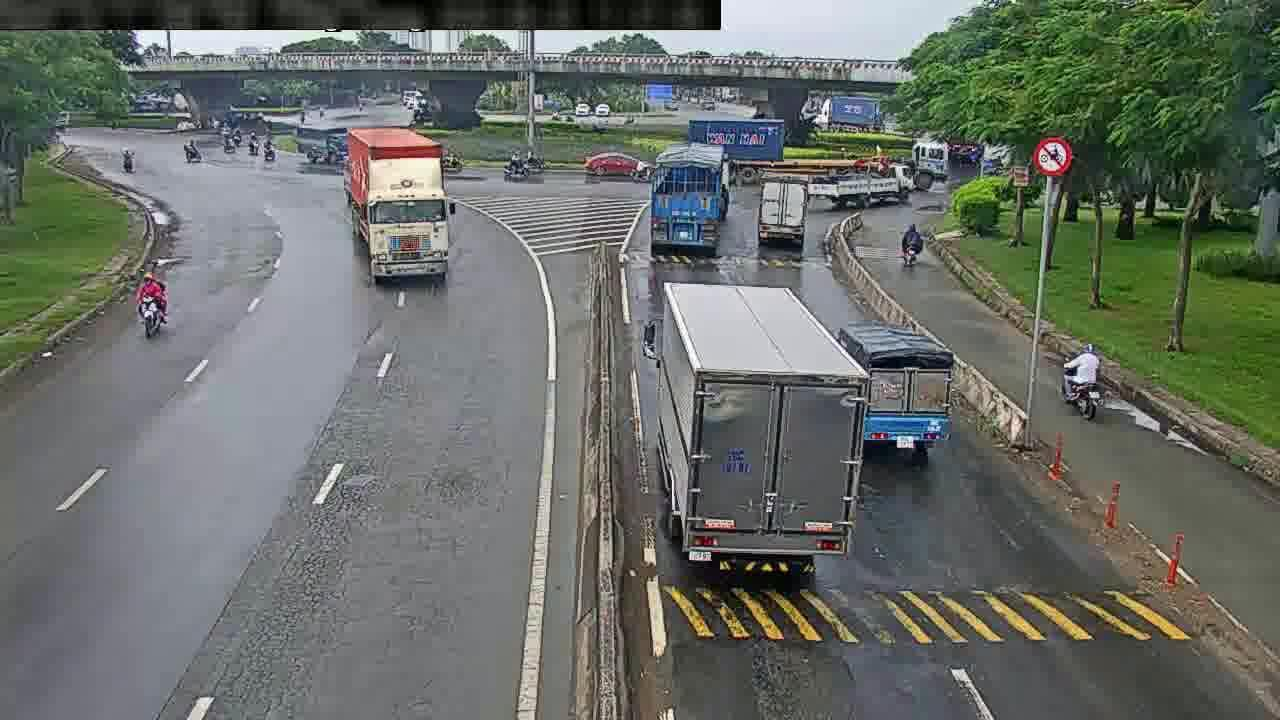car: (581, 151, 643, 178)
container: (641, 274, 875, 589), (677, 112, 951, 194), (838, 314, 962, 462), (346, 113, 450, 284), (647, 141, 728, 256), (753, 171, 821, 250)
motorbike: (1057, 343, 1106, 421), (134, 265, 176, 345), (897, 217, 930, 271), (502, 152, 536, 180)
